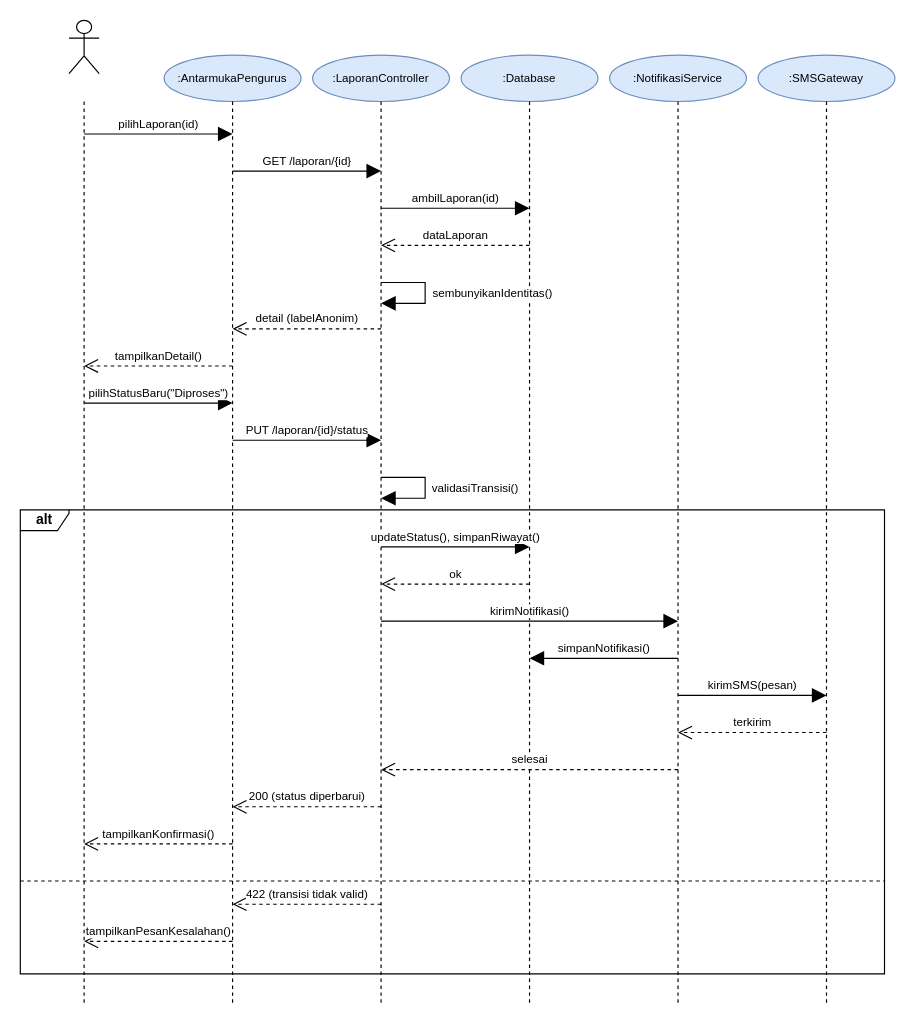
The diagram is 915 pixels wide and 1025 high, and some of its shapes have lost their labels. The shapes that lost their labels are listed below. From the top down, each one's box as (x1, y1, x2, y2) in pixels, then its label:
(68, 19, 99, 74): Pengurus
(75, 512, 151, 528): [transisi valid]
(29, 884, 131, 900): [transisi tidak valid]
